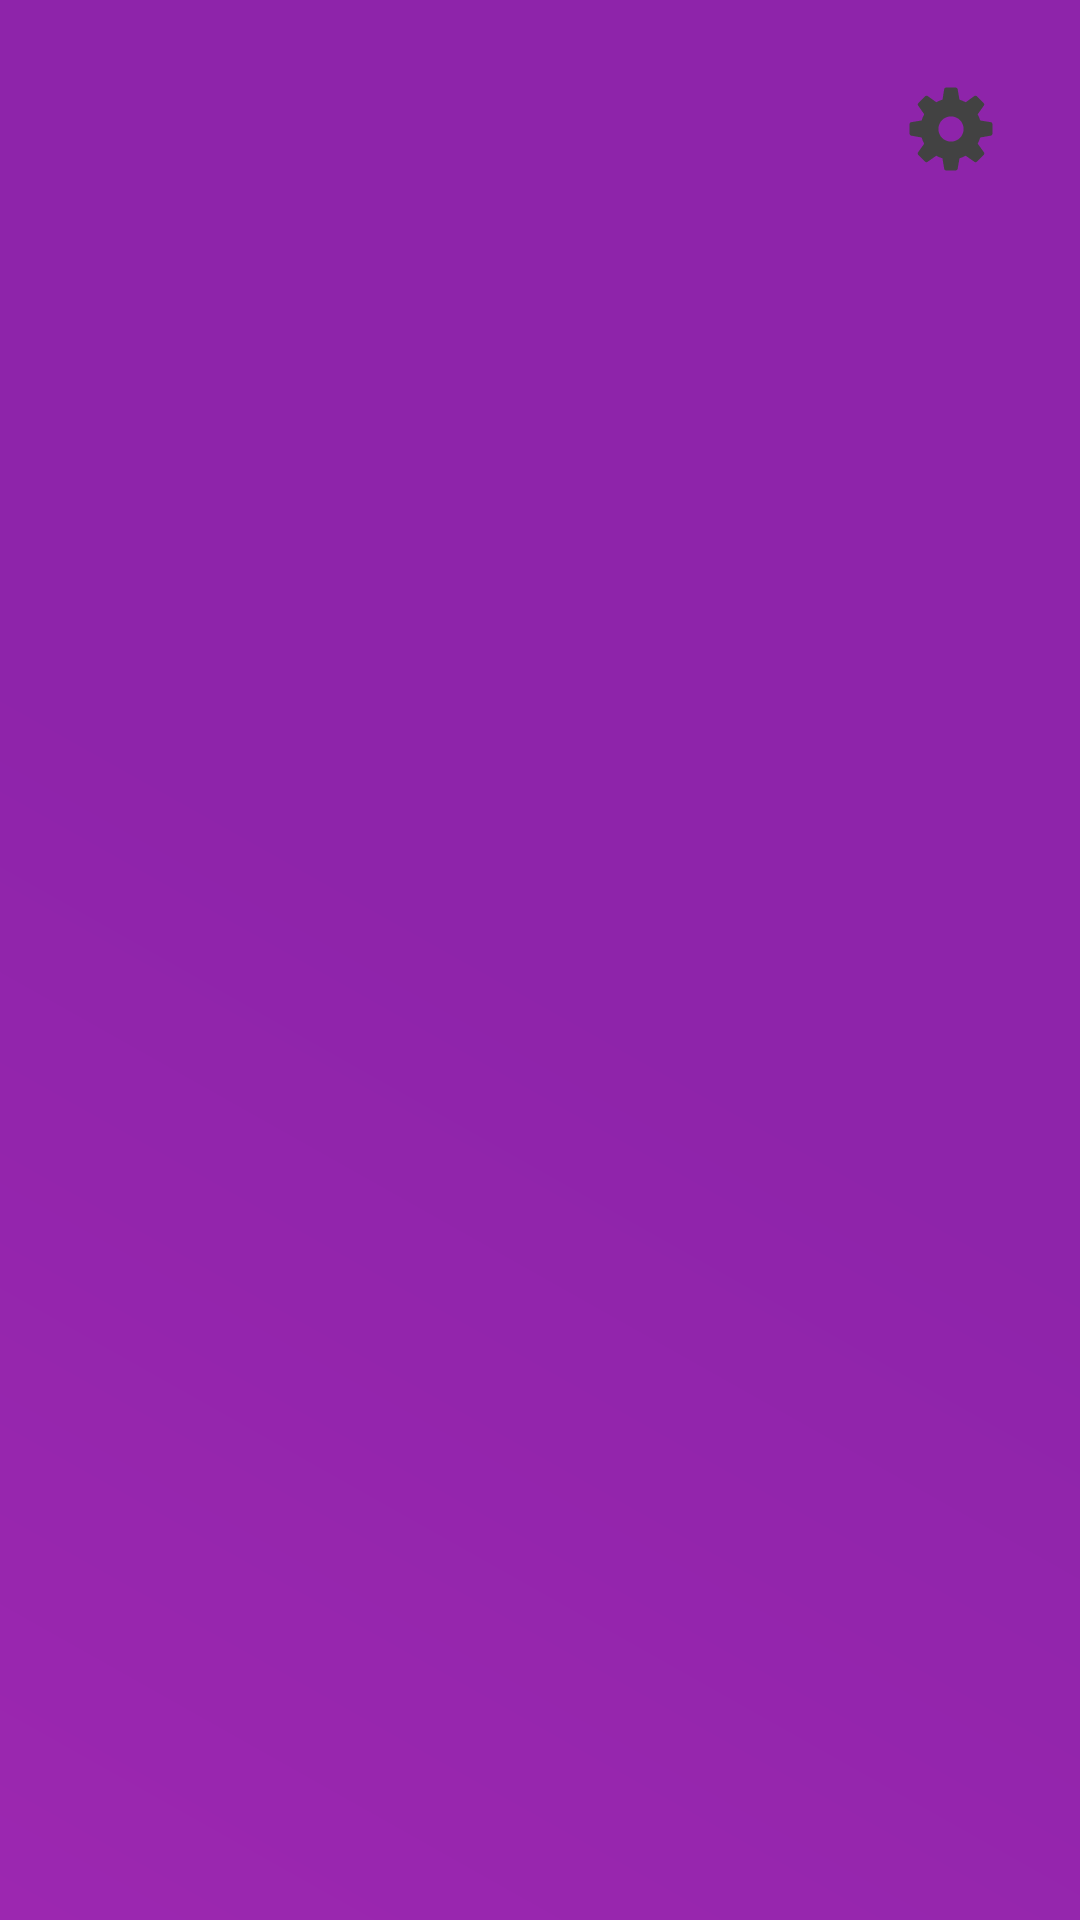

Point at icon controls on the screen. Image size 1080px×1920px, points as [x,y].
Settings Button: [951,129]
